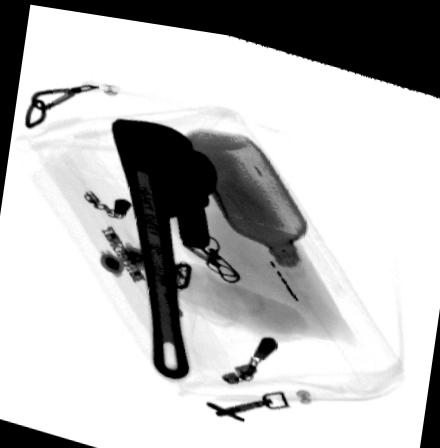Wrench: (109, 110, 218, 375)
